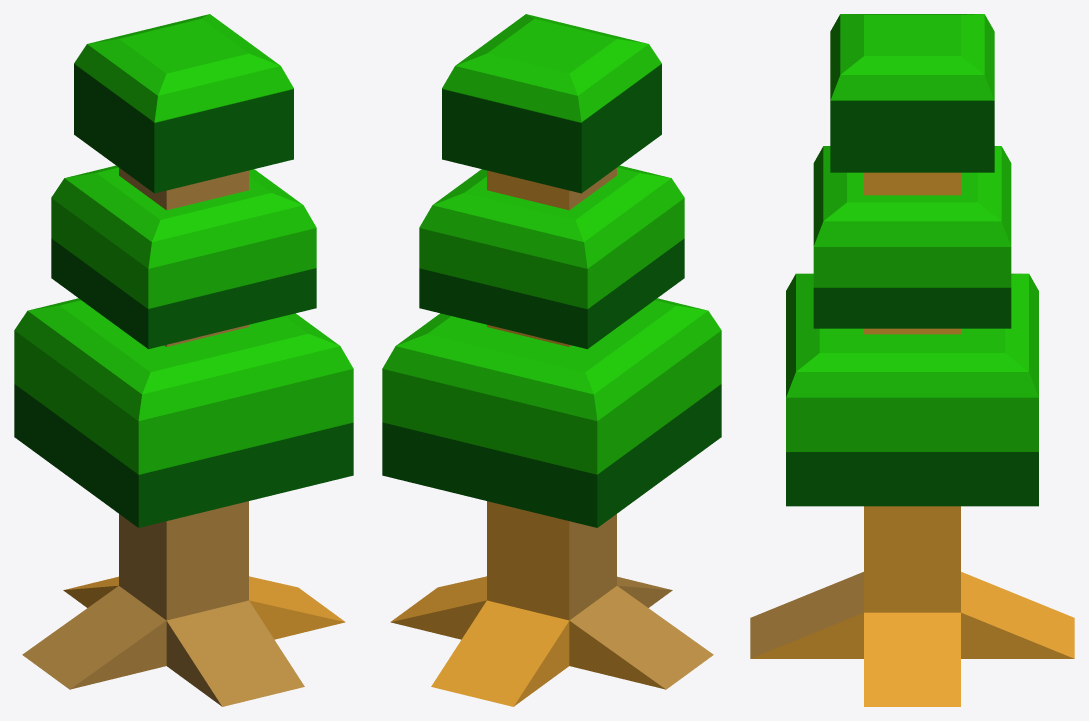
The model's file is Trees1.fbx.
3 views of the same model, side by side, from view 1: azimuth 30°, elevation 25°; view 2: azimuth 150°, elevation 25°; view 3: azimuth 270°, elevation 25° (orthographic).
Visible parts, largest first — view 1: Trees1; view 2: Trees1; view 3: Trees1.
Part boxes in pixels (x1,y1,x2,y2): Trees1: [14, 14, 353, 706]; Trees1: [382, 14, 721, 706]; Trees1: [750, 14, 1074, 706].
Bounding box in the file's own units: 0.976 × 2 × 0.976.
1 material, 1 textured.
